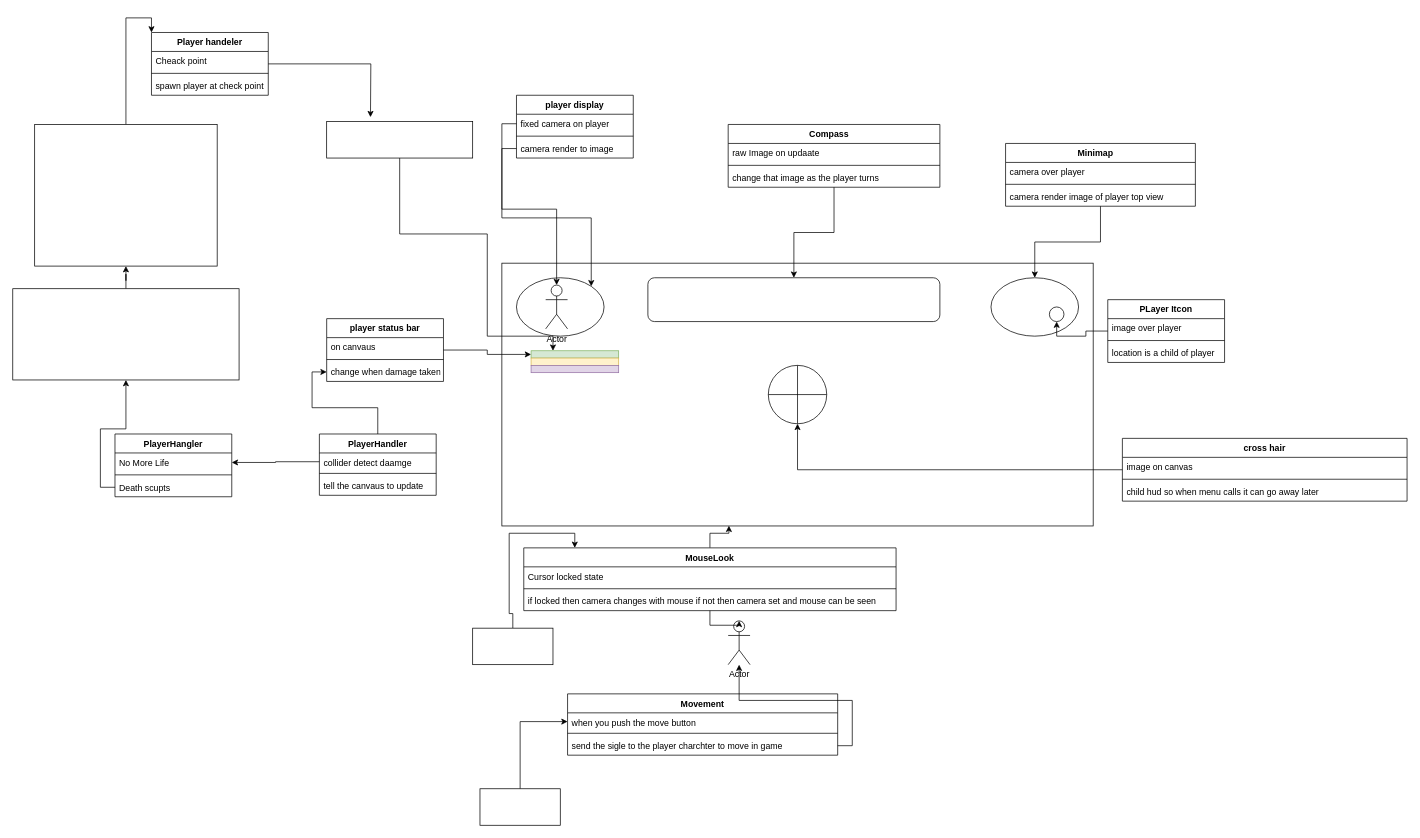
This 1420x838 diagram has some shape labels left out. The centre of each missing label's shape, as x and y in pixels:
Death: pixel 125 334
Player can live again: pixel 125 195
Player is alive again full health: pixel 399 139
«interface» KeyBoard: pixel 519 806
«interface» Mouse: pixel 512 646
